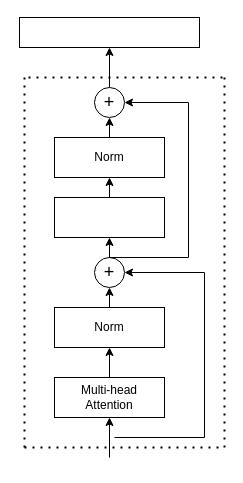
The diagram is 243 pixels wide and 483 high, and some of its shapes have lost their labels. The centre of each missing label's shape, as x and y in pixels:
"AVG Pool" goes at (109,32).
"MLP" goes at (109,217).
